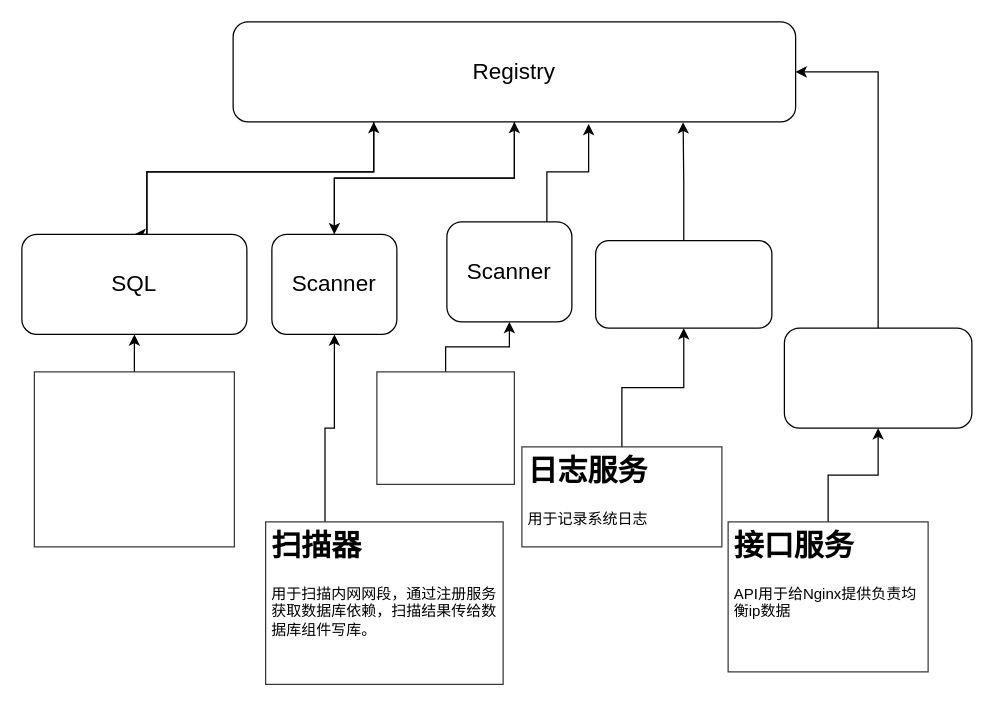
This 994x706 diagram has some shape labels left out. Here are the shapes that lost their labels. From the top down, the centre of each, then its label:
At [683,283]: "Logger".
At [877,377]: "Api".
At [445,427]: "测试器 用于测试数据库中地址可用性".
At [133,459]: "数据库组件 数据库负责数据库的CURD工作，给其他组件使用。 通信：api 数据格式:json".
